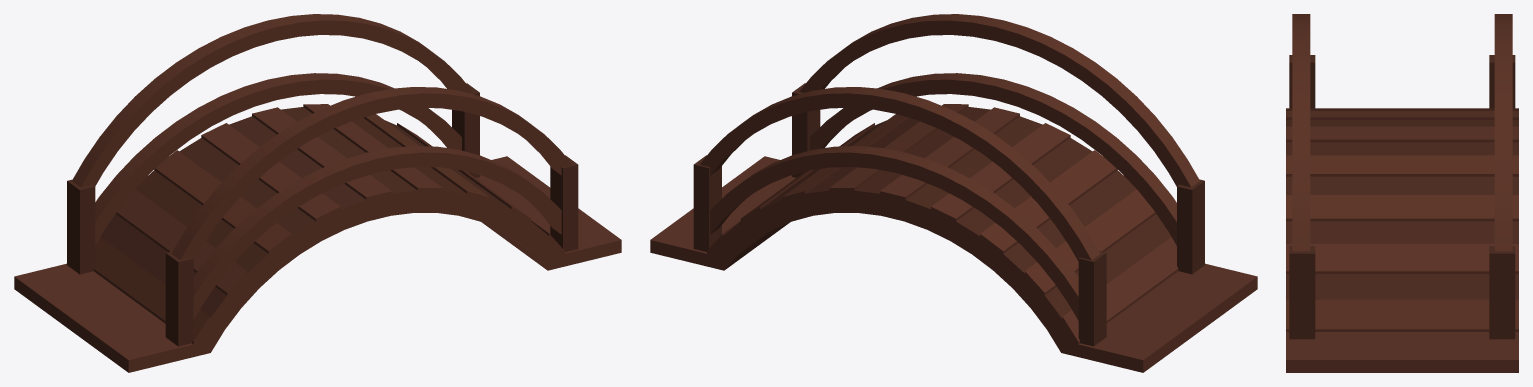
File: köprü.fbx
3 views of the same model, side by side, from view 1: azimuth 30°, elevation 25°; view 2: azimuth 150°, elevation 25°; view 3: azimuth 270°, elevation 25° (orthographic).
Parts seen in each view (by area): view 1: köprü; view 2: köprü; view 3: köprü.
Boxes of the visible parts, bbox=[...] form: köprü: bbox=[14, 14, 621, 372]; köprü: bbox=[650, 14, 1257, 372]; köprü: bbox=[1286, 14, 1518, 372].
Size of the model in its own units: 11831 by 4813 by 4757.
